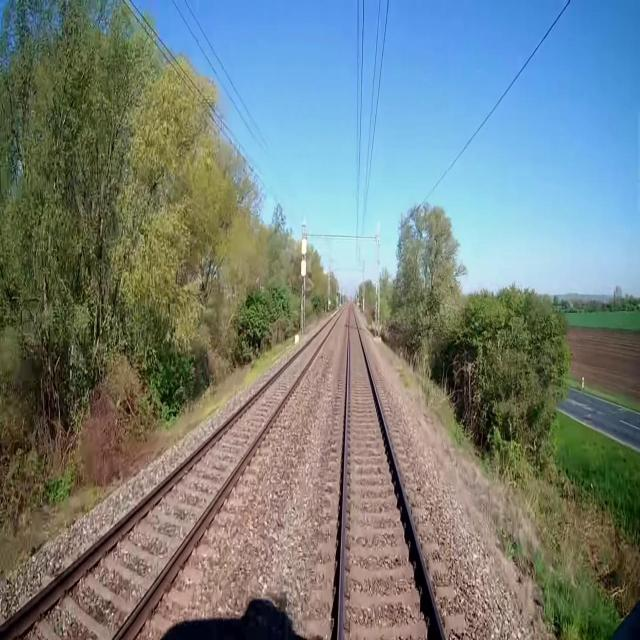rail-track: (0, 313, 339, 639), (342, 306, 442, 639)
